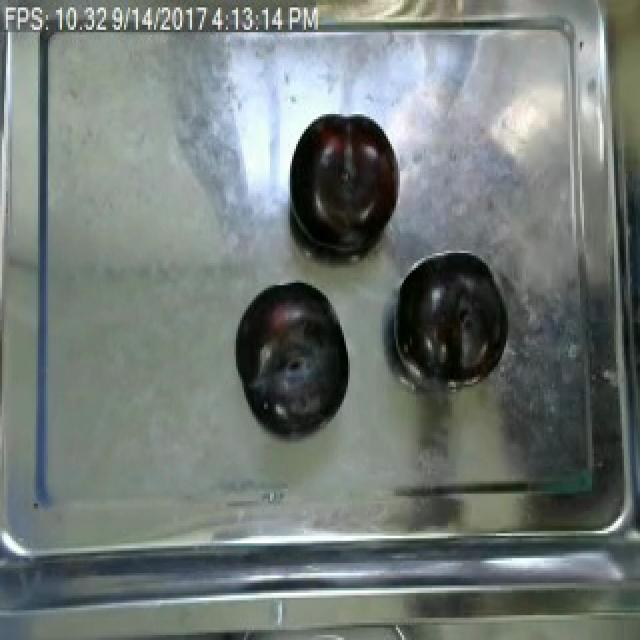Fruit: (230, 278, 352, 432), (284, 109, 402, 248), (390, 253, 510, 385)
